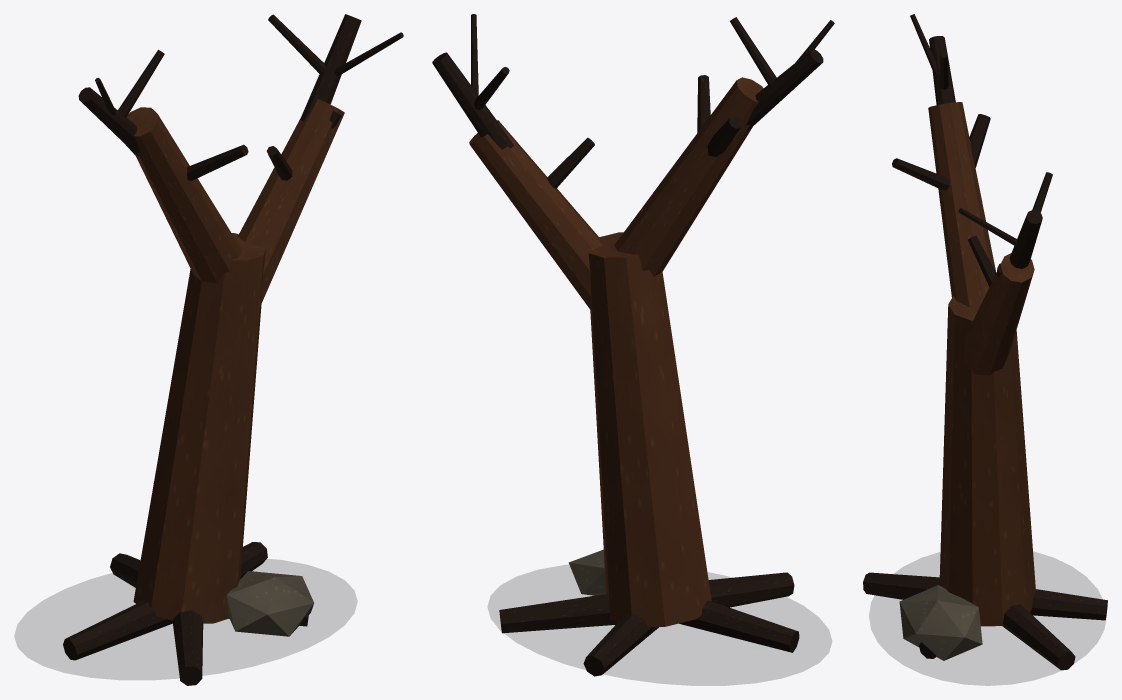
The model's file is dead_tree_c_bc_v1.glb.
3 renders of one model, left to right at view 1: azimuth 30°, elevation 25°; view 2: azimuth 150°, elevation 25°; view 3: azimuth 270°, elevation 25°, orthographic. The views are drawn at different scales.
Visible parts, largest first — view 1: split_dead_branch_0.002, ground_contact_shadow.003, split_dead_branch_1.002, split_dead_branch_2.002, root_stone.002, exposed_root_4.002, exposed_root_3.002, split_dead_branch_3.002, split_dead_branch_4, dry_opposing_twig_1.002, dry_twig_3.002, dry_twig_4 (+2 smaller); view 2: split_dead_branch_0.002, ground_contact_shadow.003, split_dead_branch_1.002, split_dead_branch_2.002, exposed_root_1.002, exposed_root_4.002, exposed_root_3.002, split_dead_branch_3.002, exposed_root_0.002, split_dead_branch_4, root_stone.002, dry_opposing_twig_2.002 (+3 smaller); view 3: split_dead_branch_0.002, ground_contact_shadow.003, split_dead_branch_1.002, split_dead_branch_2.002, root_stone.002, exposed_root_1.002, exposed_root_0.002, exposed_root_3.002, split_dead_branch_3.002, split_dead_branch_4, dry_opposing_twig_1.002, dry_twig_1.002 (+3 smaller).
Boxes of the visible parts, left/top/right/bottom form: split_dead_branch_0.002: left=133, top=233, right=265, bottom=623; ground_contact_shadow.003: left=15, top=559, right=356, bottom=679; split_dead_branch_1.002: left=126, top=107, right=242, bottom=283; split_dead_branch_2.002: left=238, top=99, right=344, bottom=304; root_stone.002: left=226, top=571, right=313, bottom=636; exposed_root_4.002: left=63, top=601, right=172, bottom=660; exposed_root_3.002: left=172, top=610, right=203, bottom=685; split_dead_branch_3.002: left=300, top=14, right=361, bottom=121; split_dead_branch_4: left=78, top=87, right=140, bottom=156; dry_opposing_twig_1.002: left=187, top=144, right=248, bottom=180; dry_twig_3.002: left=268, top=14, right=325, bottom=74; dry_twig_4: left=118, top=49, right=164, bottom=117; split_dead_branch_0.002: left=588, top=232, right=711, bottom=626; ground_contact_shadow.003: left=488, top=565, right=831, bottom=685; split_dead_branch_1.002: left=614, top=77, right=763, bottom=276; split_dead_branch_2.002: left=469, top=120, right=602, bottom=310; exposed_root_1.002: left=499, top=594, right=617, bottom=633; exposed_root_4.002: left=679, top=600, right=799, bottom=652; exposed_root_3.002: left=708, top=572, right=794, bottom=607; split_dead_branch_3.002: left=432, top=52, right=513, bottom=149; exposed_root_0.002: left=583, top=614, right=658, bottom=676; split_dead_branch_4: left=746, top=49, right=823, bottom=129; root_stone.002: left=568, top=549, right=606, bottom=595; dry_opposing_twig_2.002: left=547, top=137, right=594, bottom=188; split_dead_branch_0.002: left=939, top=296, right=1035, bottom=626; ground_contact_shadow.003: left=869, top=552, right=1105, bottom=685; split_dead_branch_1.002: left=928, top=102, right=995, bottom=307; split_dead_branch_2.002: left=963, top=253, right=1034, bottom=375; root_stone.002: left=899, top=585, right=982, bottom=660; exposed_root_1.002: left=1002, top=604, right=1075, bottom=670; exposed_root_0.002: left=1030, top=589, right=1107, bottom=620; exposed_root_3.002: left=863, top=572, right=939, bottom=599; split_dead_branch_3.002: left=1009, top=210, right=1042, bottom=268; split_dead_branch_4: left=929, top=36, right=955, bottom=104; dry_opposing_twig_1.002: left=892, top=158, right=949, bottom=190; dry_twig_1.002: left=969, top=114, right=990, bottom=167.
Size of the model in its own units: 1.78 by 2.86 by 1.15.
Materials: 4 (4 with a texture image).
